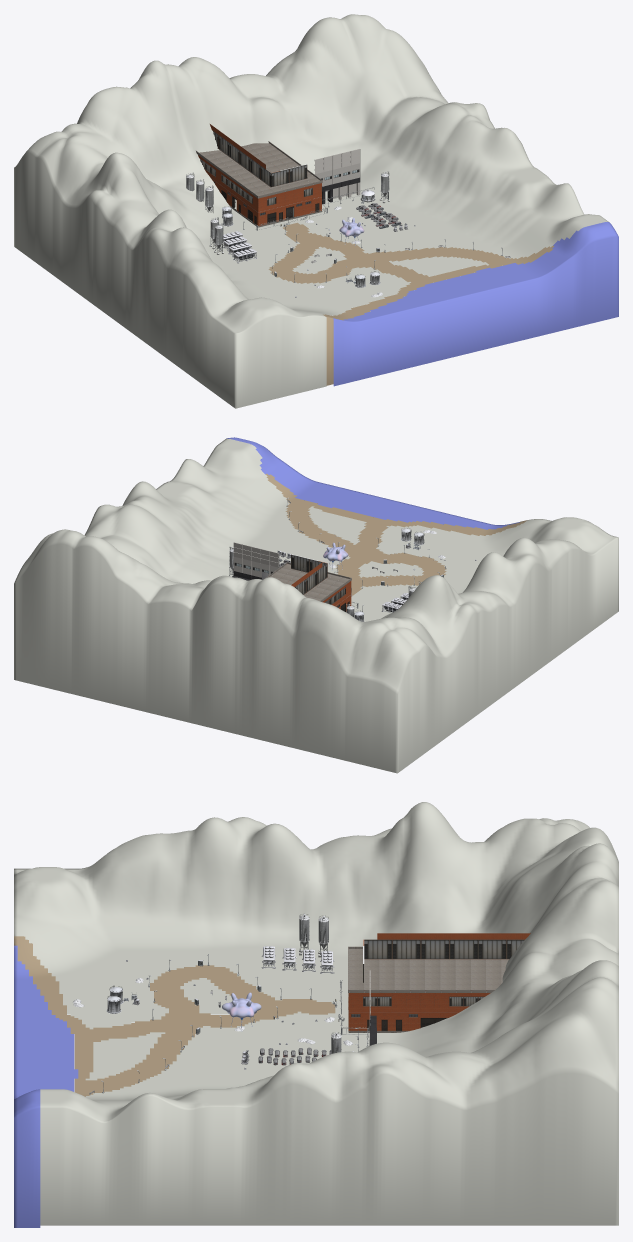
File: Hamina.glb
The picture shows the model from 3 angles, top to bottom: view 1: azimuth 30°, elevation 25°; view 2: azimuth 150°, elevation 25°; view 3: azimuth 270°, elevation 25°; orthographic projection. The views are drawn at different scales.
Visible parts, largest first — view 1: snow, water, Main_Building, snowanddirt, Sub_Building; view 2: snow, snowanddirt, water, Main_Building, Sub_Building; view 3: snow, Main_Building, snowanddirt, water, echo.
Part boxes in pixels (x1,y1,x2,y2): snow: (14, 14, 608, 408); water: (333, 222, 618, 386); Main_Building: (196, 124, 322, 227); snowanddirt: (268, 222, 553, 385); Sub_Building: (314, 149, 360, 204); snow: (14, 439, 618, 773); snowanddirt: (265, 473, 527, 595); water: (226, 437, 519, 529); Main_Building: (265, 554, 351, 611); Sub_Building: (232, 542, 279, 580); snow: (14, 802, 618, 1225); Main_Building: (348, 933, 530, 1032); snowanddirt: (14, 936, 335, 1096); water: (14, 945, 78, 1227); echo: (222, 992, 261, 1031).
Size of the model in its own units: 120 by 47.64 by 120.
Materials: 29 (24 with a texture image).
